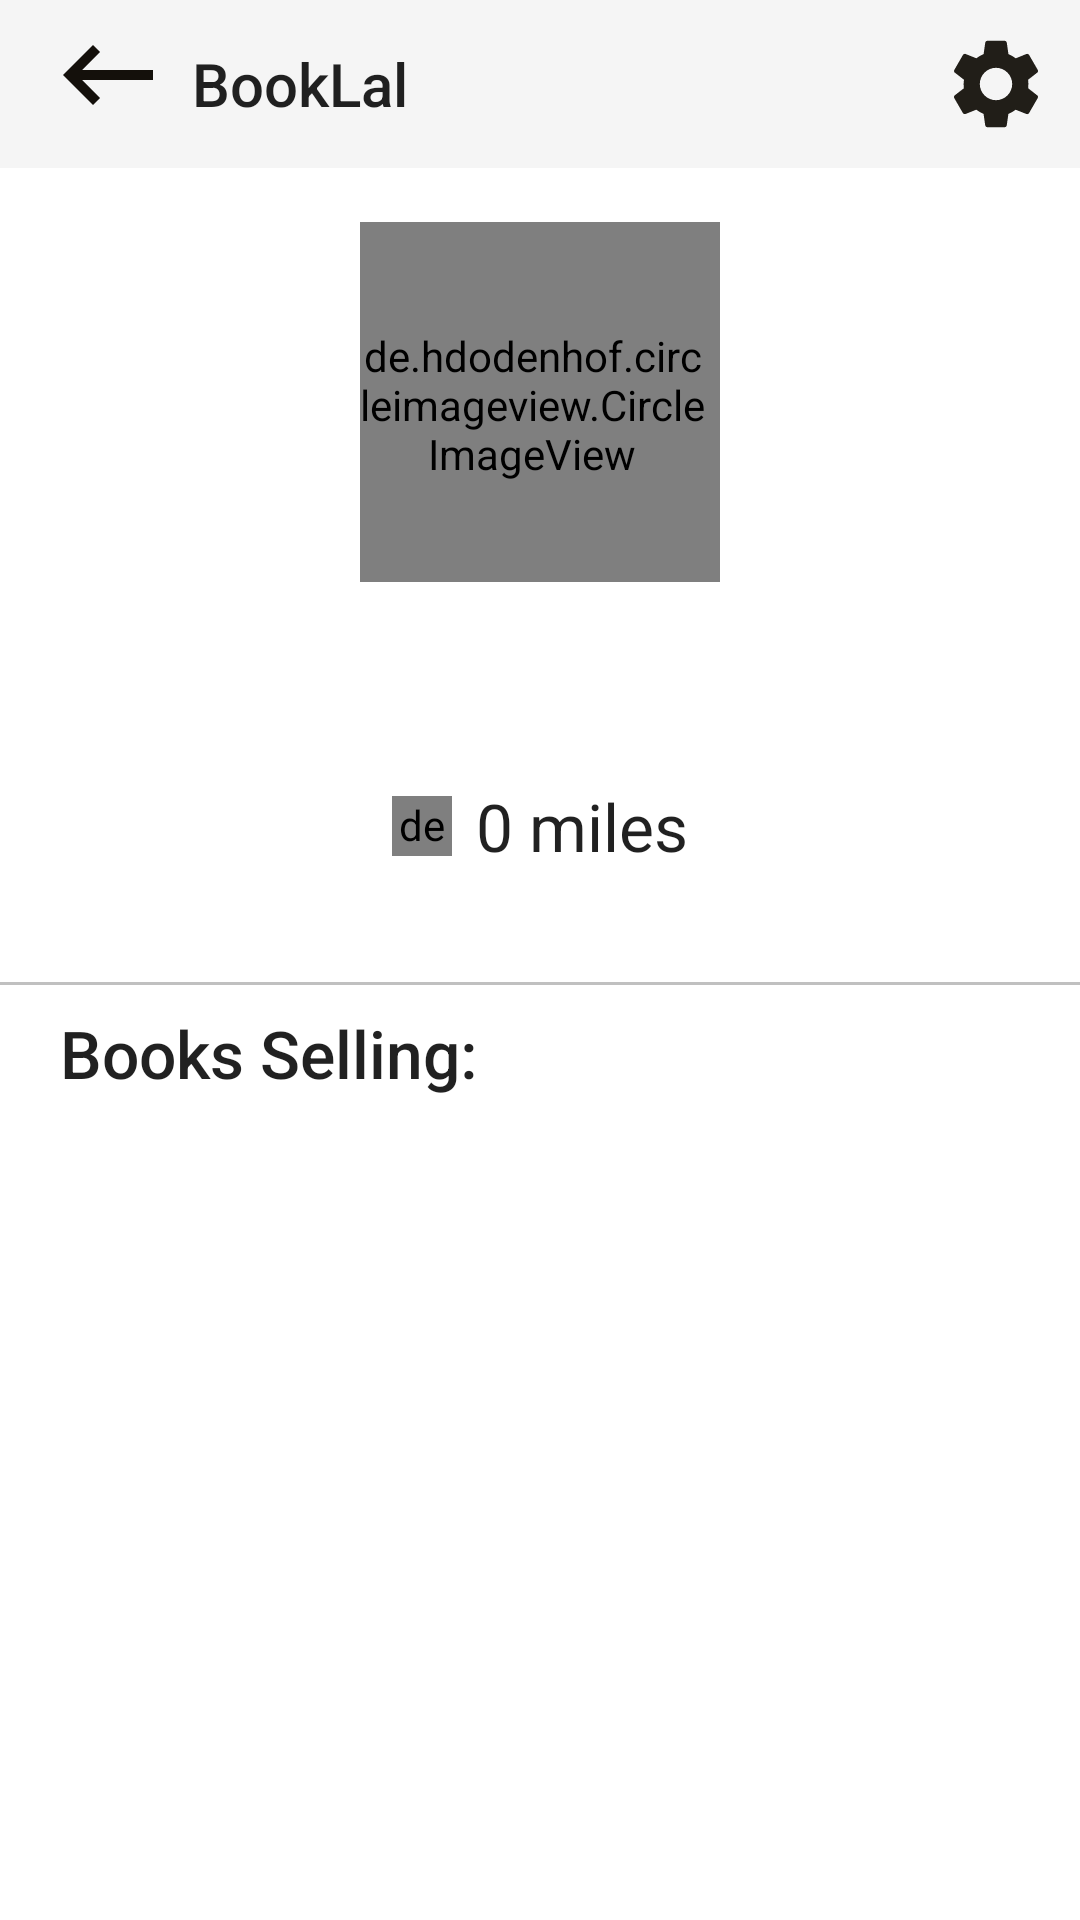

Icons on this 1080w x 1920h Android screen, each with the point to tap as [x,y]:
long back arrow: [108,75]
settings gear: [996,84]
